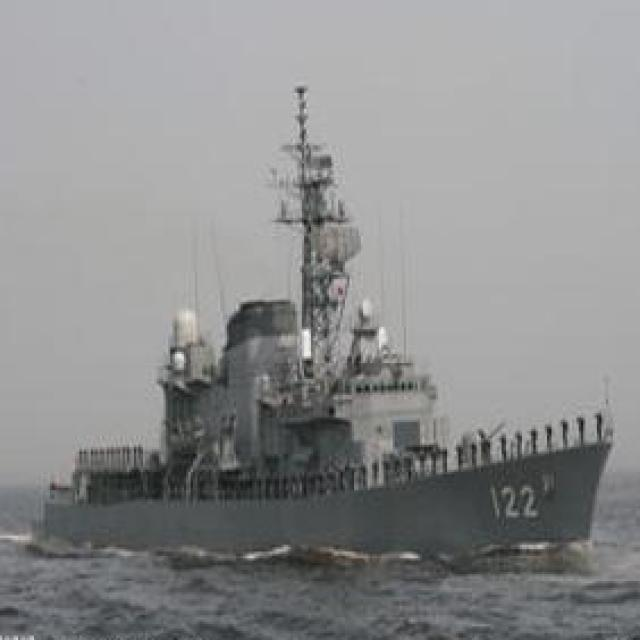navalvessels: (29, 204, 622, 550)
